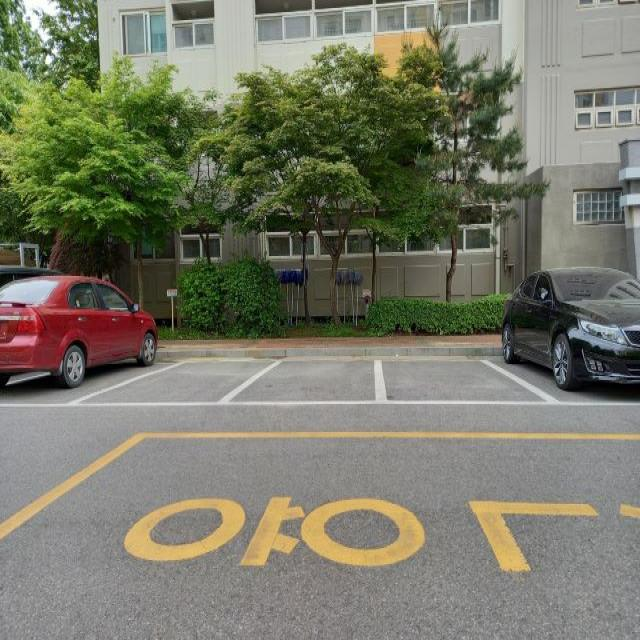empty: (85, 355, 277, 405), (372, 353, 549, 402), (223, 353, 381, 402)
occupied: (0, 270, 156, 393), (500, 265, 639, 398), (577, 0, 617, 7), (616, 0, 640, 5)
